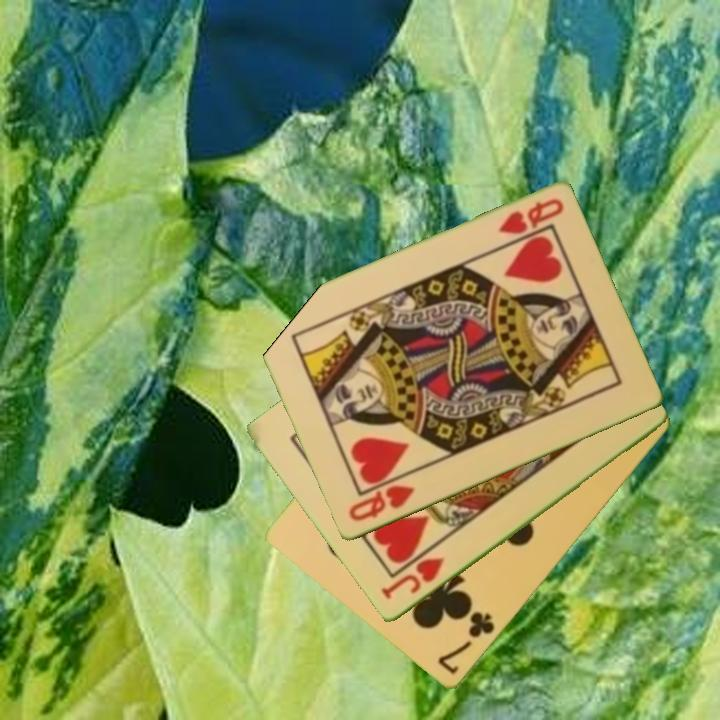7c: (434, 608, 498, 678)
Jh: (377, 554, 448, 603)
Qh: (494, 195, 567, 238), (345, 482, 417, 525)
